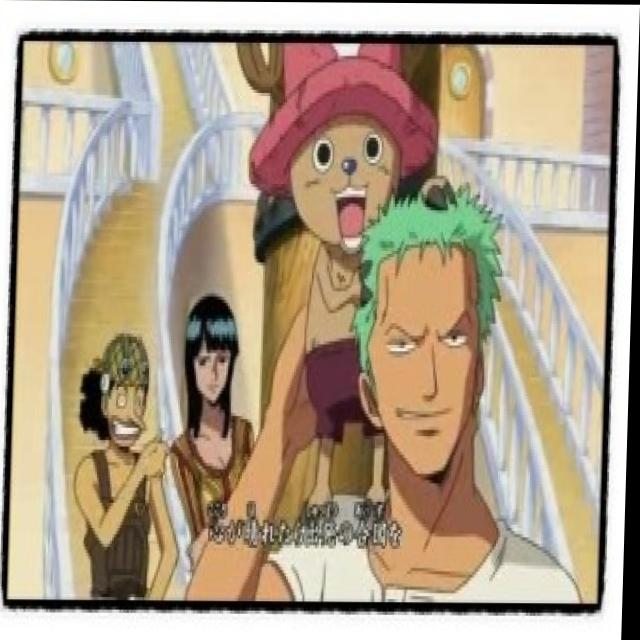Chyopa: (228, 37, 410, 256)
NicoRobin: (181, 282, 250, 442)
Usopp: (78, 329, 157, 454)
Zoro: (357, 185, 509, 479)
